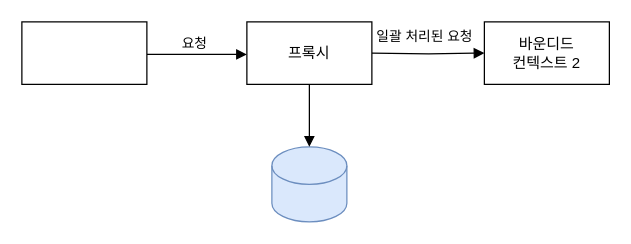
Image size: 631x244. Some labels were removed from this diagram. Here are the shapes that lost their labels. From the top down, the box of each, then its label:
(21, 21, 147, 84): 바운디드 컨텍스트 1
(271, 146, 347, 222): 스토리지
